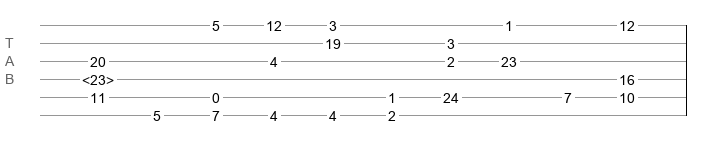0: (212, 90, 220, 100)
1: (388, 90, 396, 100), (505, 18, 513, 28)
10: (619, 90, 635, 100)
11: (90, 90, 106, 100)
12: (266, 18, 282, 28), (619, 18, 635, 28)
16: (619, 72, 635, 82)
19: (325, 36, 341, 46)
2: (388, 108, 396, 118), (447, 54, 455, 64)
20: (90, 54, 106, 64)
23: (501, 54, 517, 64)
24: (443, 90, 459, 100)
3: (329, 18, 337, 28), (447, 36, 455, 46)
4: (270, 108, 278, 118), (270, 54, 278, 64), (329, 108, 337, 118)
5: (153, 108, 161, 118), (212, 18, 220, 28)
7: (212, 108, 220, 118), (564, 90, 572, 100)
harmonic: (82, 72, 114, 82)
